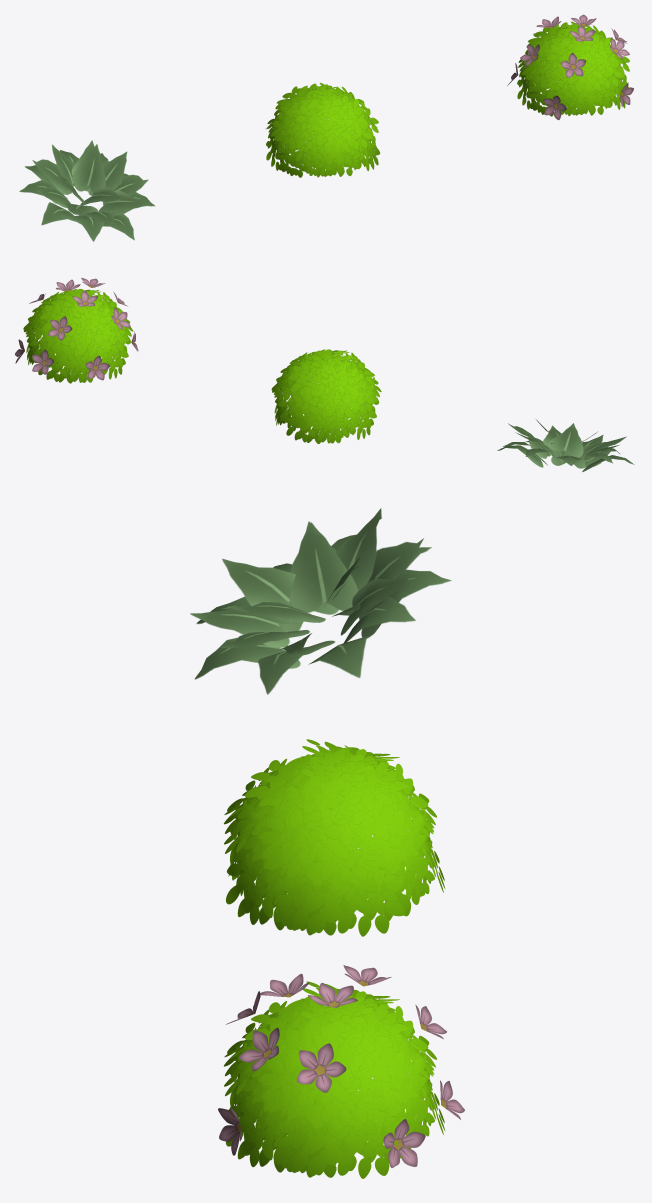
The model's file is Bushes.glb.
3 views of the same model, one above another, from view 1: azimuth 30°, elevation 25°; view 2: azimuth 150°, elevation 25°; view 3: azimuth 270°, elevation 25° (orthographic). The views are drawn at different scales.
Visible parts, largest first — view 1: Bush_Flowers, Bush, Plant_1; view 2: Bush_Flowers, Bush, Plant_1; view 3: Bush_Flowers, Bush, Plant_1.
Boxes of the visible parts, bbox=[...] form: Bush_Flowers: bbox=[507, 14, 633, 119]; Bush: bbox=[266, 83, 379, 177]; Plant_1: bbox=[19, 140, 154, 241]; Bush_Flowers: bbox=[15, 278, 138, 383]; Bush: bbox=[271, 349, 381, 443]; Plant_1: bbox=[497, 419, 634, 471]; Bush_Flowers: bbox=[218, 965, 464, 1178]; Bush: bbox=[224, 739, 445, 936]; Plant_1: bbox=[190, 508, 451, 694].
Size of the model in its own units: 6.03 by 0.7975 by 1.23.
2 materials, 2 textured.
